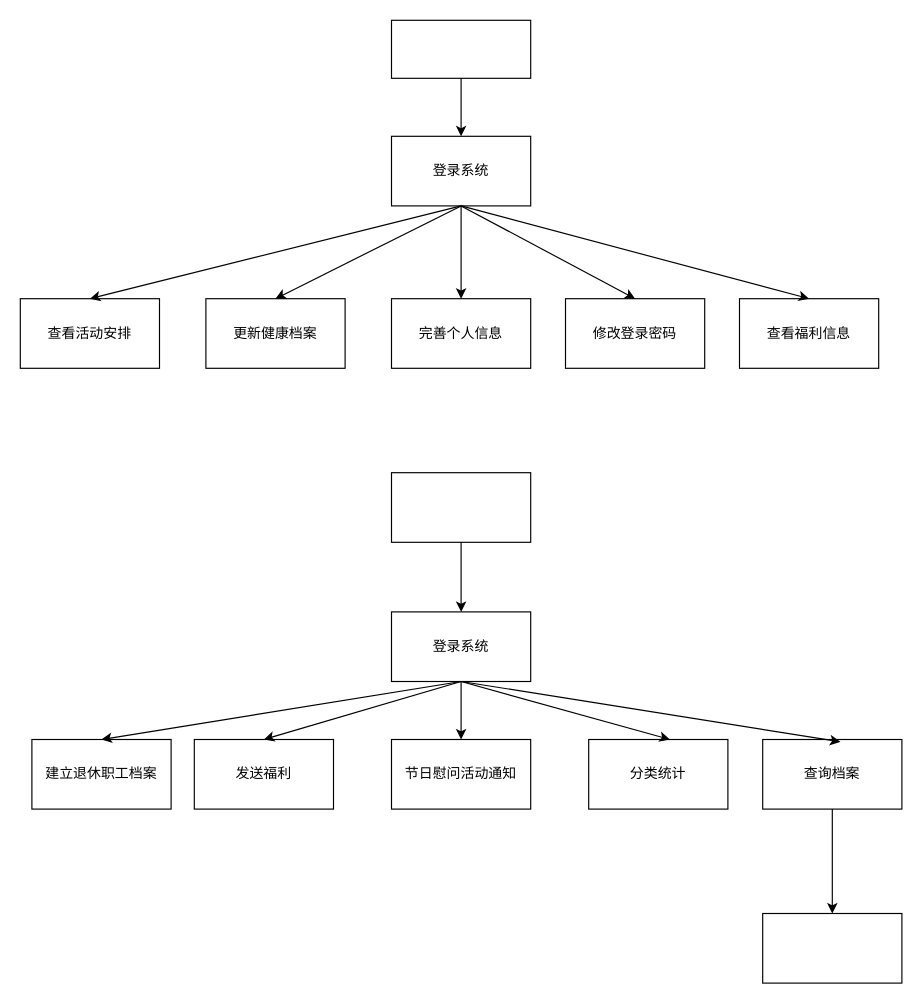
The diagram is 922 pixels wide and 1003 high, and some of its shapes have lost their labels. The box of each missing label's shape, as (x1, y1, x2, y2) in pixels:
删除过世员工档案: (762, 912, 902, 983)
工作人员: (390, 472, 531, 542)
退休职工: (390, 19, 531, 78)
